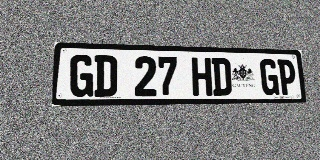2: (135, 56, 156, 96)
7: (157, 56, 178, 96)
D: (94, 55, 117, 97), (211, 58, 232, 96)
G: (69, 54, 94, 97), (259, 59, 279, 95)
H: (191, 57, 212, 96)
P: (277, 59, 297, 95)
